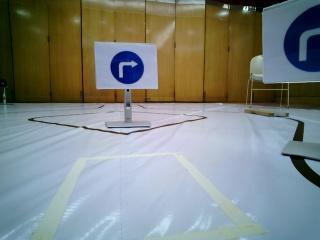right: (262, 8, 320, 78), (95, 42, 157, 89)
